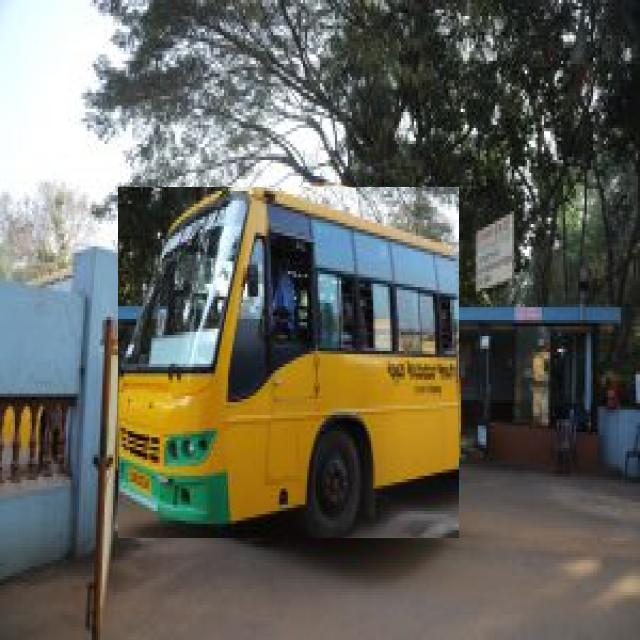bus: (119, 187, 459, 538)
